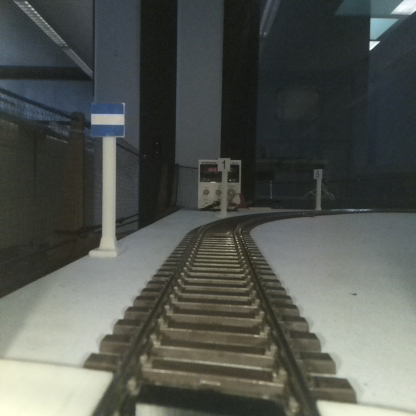start: (90, 102, 124, 254)
white-info-1: (217, 157, 230, 217)
